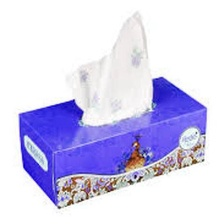book: (14, 73, 209, 211)
tissue: (61, 7, 157, 129)
